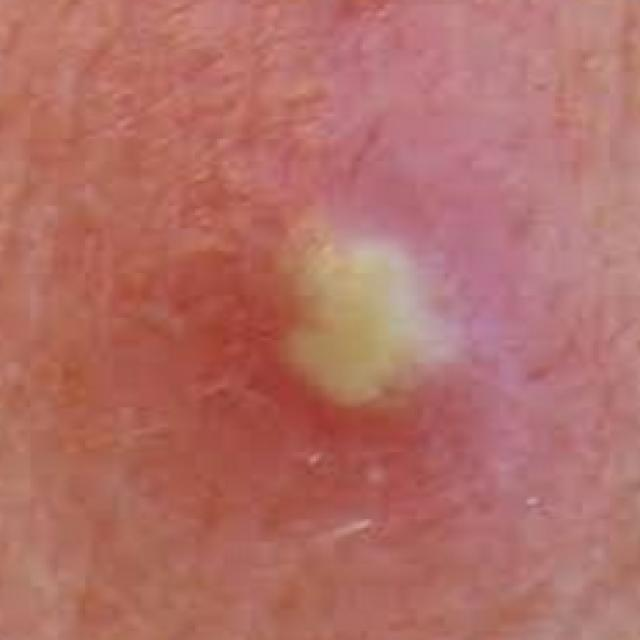pustule: (188, 167, 525, 460)
